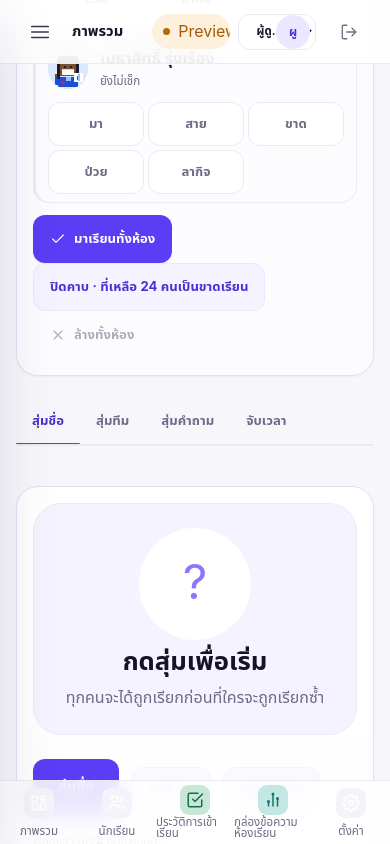
classroom live tools › splits the room into teams that hold every student once
(page scrolled)
Step 1. Click the tab "สุ่มทีม" → point(113, 422), box top-left (80, 399), bottom-right (145, 445)
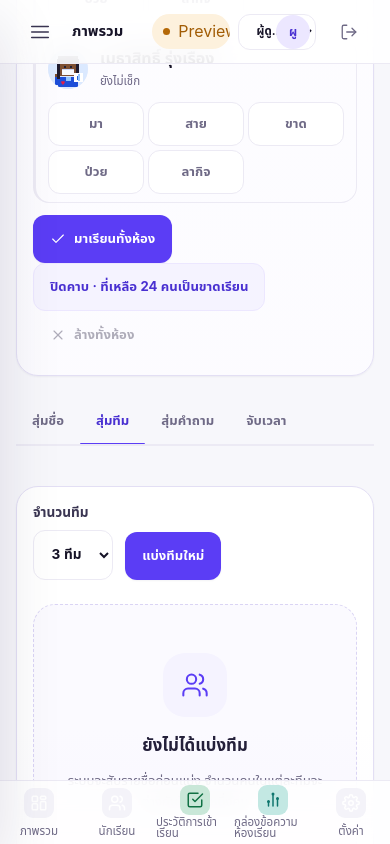
Step 2. Click the button "แบ่งทีมใหม่" → point(173, 556), box top-left (125, 532), bottom-right (221, 580)
(page scrolled)
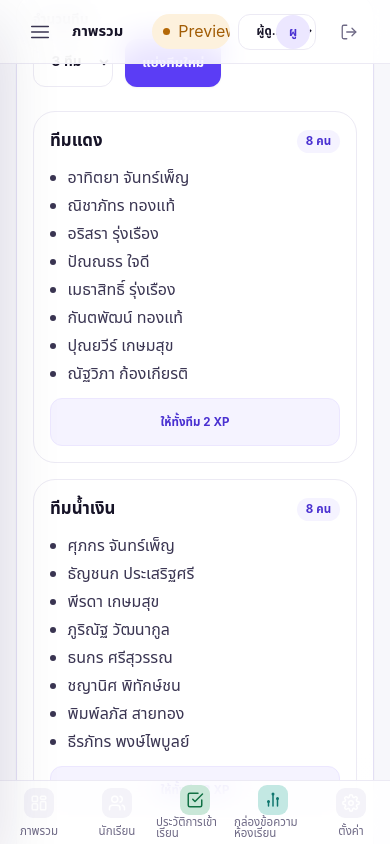
expect the heading "ทีมแดง" is shown: met, box top-left (50, 128), bottom-right (102, 154)
expect the heading "ทีมน้ำเงิน" is shown: met, box top-left (50, 496), bottom-right (116, 522)
expect the button "ให้ทั้งทีม 2 XP" is shown: met, box top-left (50, 398), bottom-right (340, 446)
